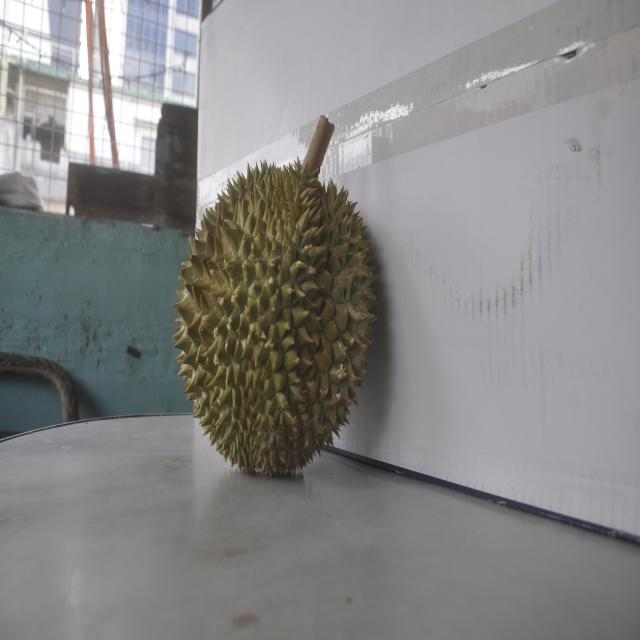mature: (174, 140, 375, 478)
